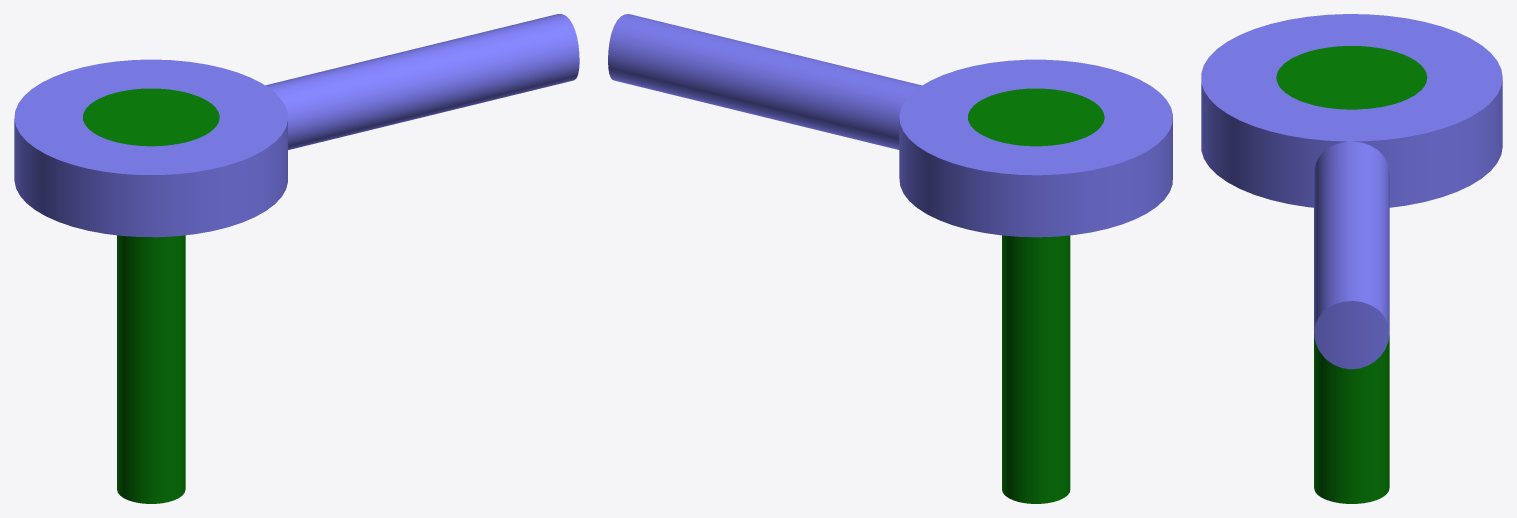
Rendered from composite.obj.
3 views of the same model, side by side, from view 1: azimuth 30°, elevation 25°; view 2: azimuth 150°, elevation 25°; view 3: azimuth 270°, elevation 25° (orthographic). The views are drawn at different scales.
Parts seen in each view (by area): view 1: Root|composite-solidworks-visualize_(Default)|rotating-1|rotatin, Root|composite-solidworks-visualize_(Default)|central-1|central-; view 2: Root|composite-solidworks-visualize_(Default)|rotating-1|rotatin, Root|composite-solidworks-visualize_(Default)|central-1|central-; view 3: Root|composite-solidworks-visualize_(Default)|rotating-1|rotatin, Root|composite-solidworks-visualize_(Default)|central-1|central-.
Part boxes in pixels (x1=…): Root|composite-solidworks-visualize_(Default)|rotating-1|rotatin: x1=14, y1=14, x2=579, y2=237; Root|composite-solidworks-visualize_(Default)|central-1|central-: x1=83, y1=88, x2=219, y2=503; Root|composite-solidworks-visualize_(Default)|rotating-1|rotatin: x1=608, y1=14, x2=1172, y2=237; Root|composite-solidworks-visualize_(Default)|central-1|central-: x1=968, y1=88, x2=1104, y2=503; Root|composite-solidworks-visualize_(Default)|rotating-1|rotatin: x1=1201, y1=14, x2=1502, y2=369; Root|composite-solidworks-visualize_(Default)|central-1|central-: x1=1276, y1=46, x2=1427, y2=503.
Bounding box in the file's own units: 0.09 × 0.06 × 0.04.
